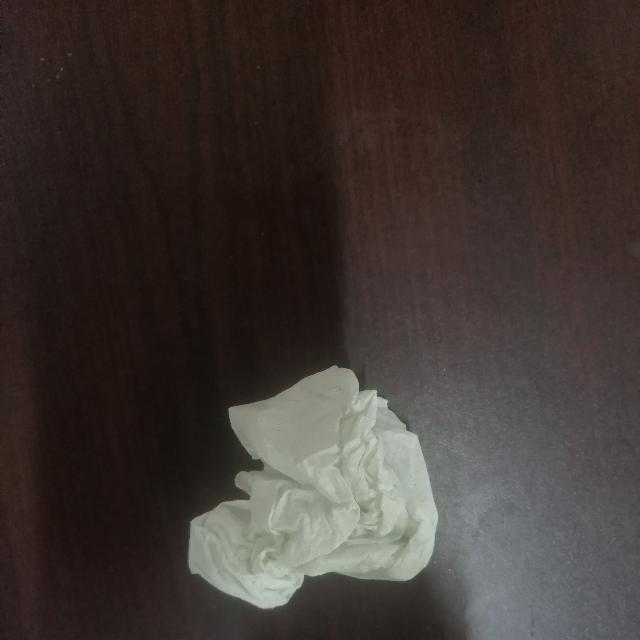kitchen paper: (167, 365, 456, 617)
